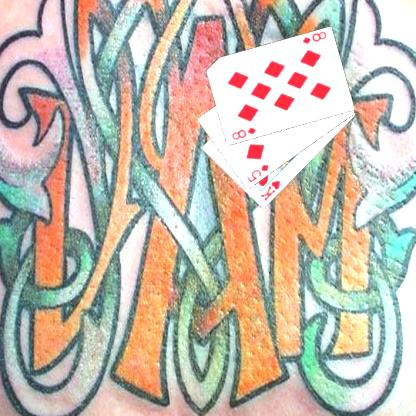5D: (244, 162, 270, 184)
8D: (230, 124, 258, 141), (300, 29, 328, 45)
KH: (258, 178, 282, 203)
